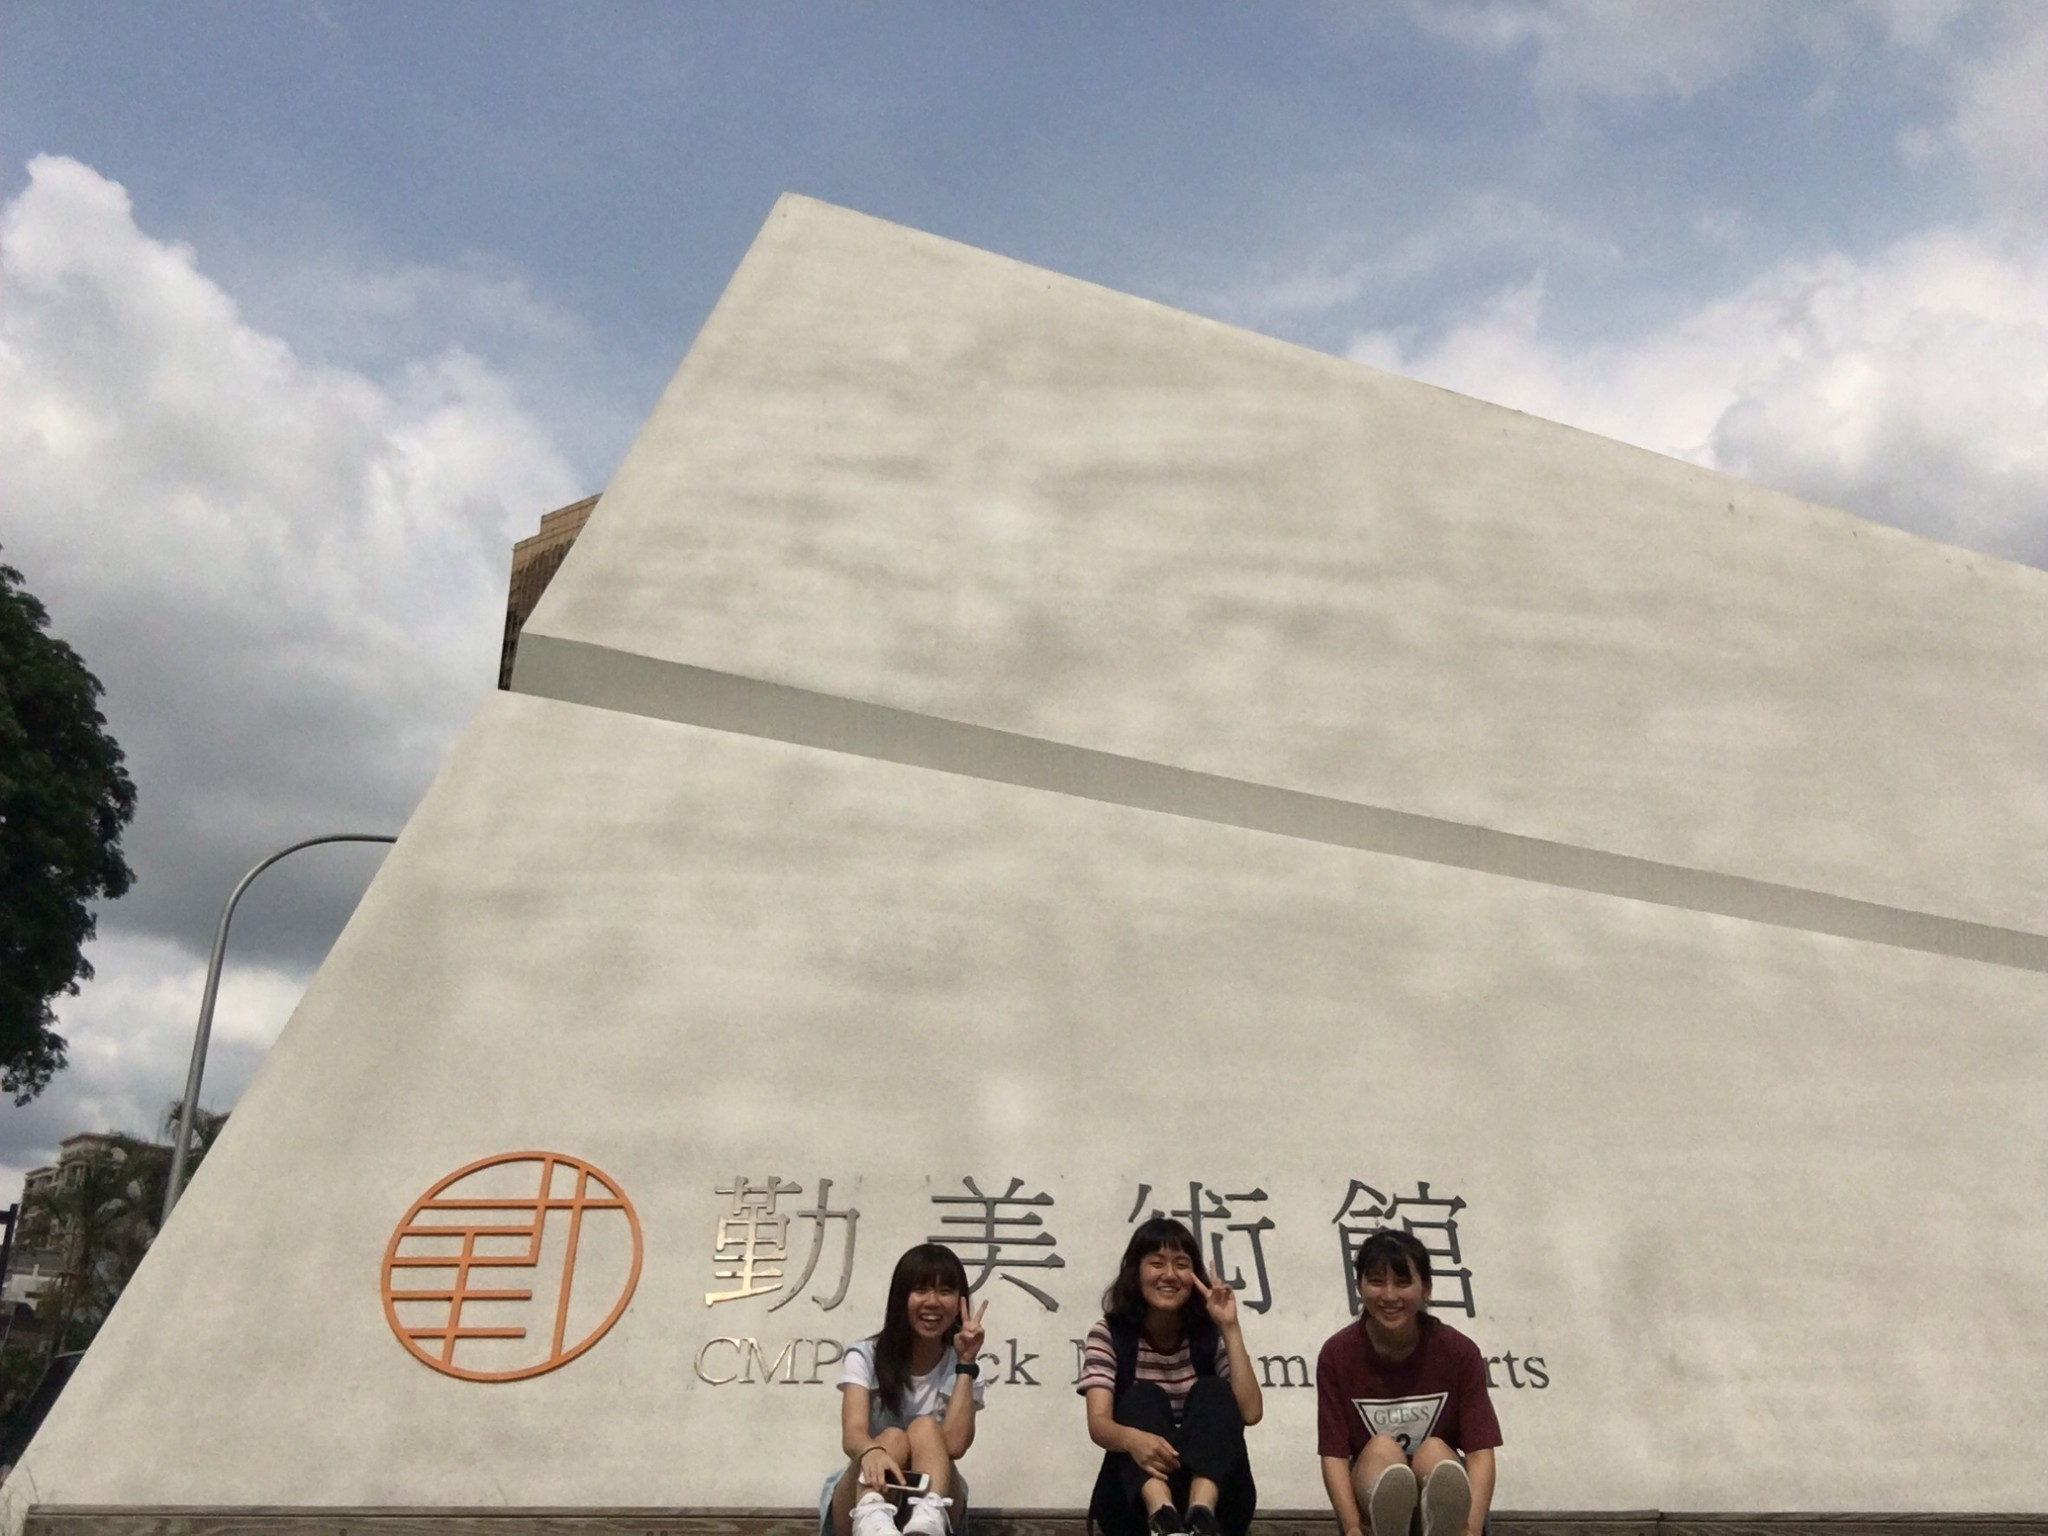people: (1322, 1231, 1510, 1536), (1096, 1231, 1246, 1536), (834, 1252, 981, 1536)
